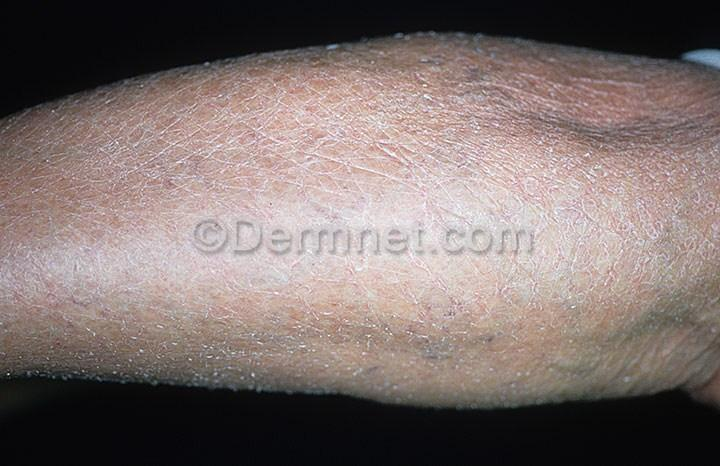liquenificacion 1: (0, 32, 719, 413)
xerosis 2: (0, 34, 719, 416)
